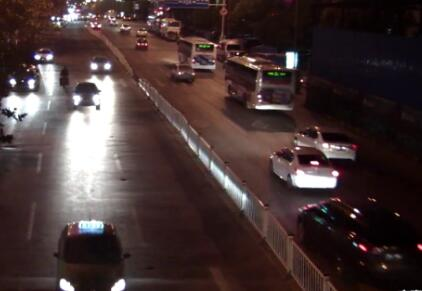bus: (220, 55, 298, 114), (174, 33, 217, 73), (154, 16, 182, 37), (145, 13, 161, 34)
car: (297, 194, 419, 284), (51, 218, 132, 288), (269, 145, 340, 190), (292, 123, 359, 162), (9, 64, 41, 93), (69, 81, 103, 108), (167, 62, 195, 83), (216, 38, 243, 59), (88, 54, 113, 73), (31, 46, 55, 63), (134, 37, 149, 48), (117, 22, 132, 33), (89, 18, 102, 30), (135, 26, 149, 37), (121, 11, 133, 22), (107, 16, 120, 26)
